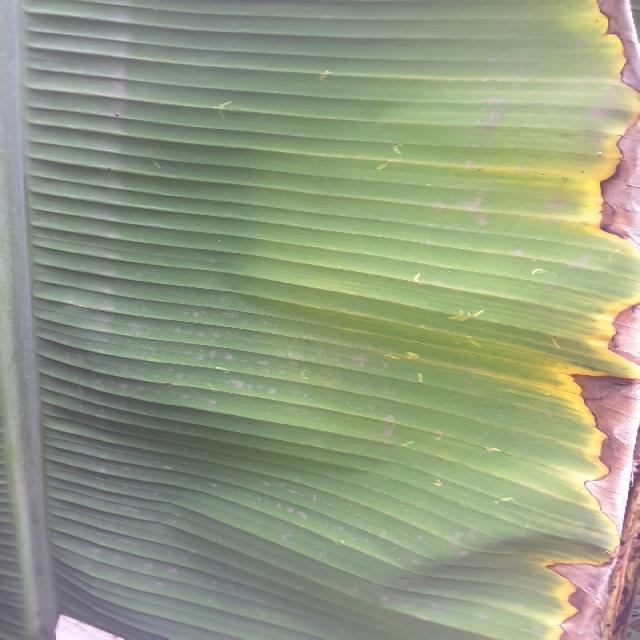Cordana: (388, 0, 640, 640)
